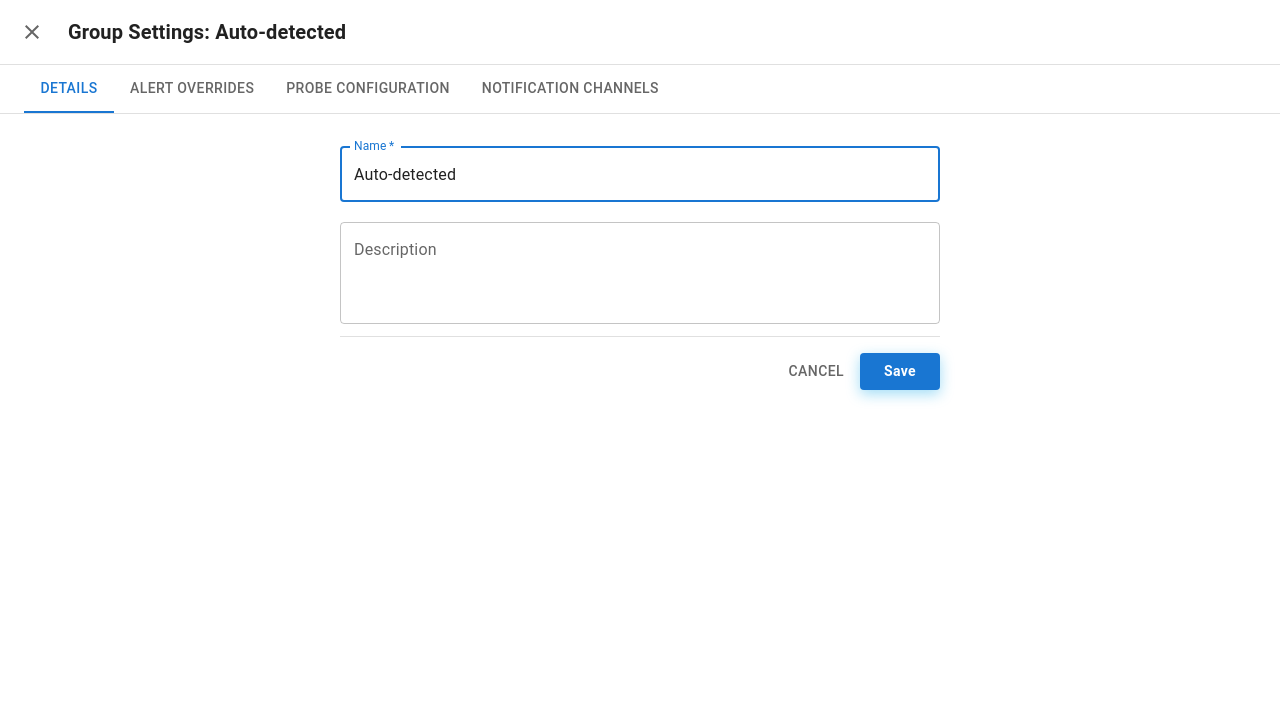
it: GroupDialog › override panels for non-numeric groups › shows info alert instead of AlertOverridesPanel for auto-detected group
This screenshot has width=1280, height=720.
Step 1. Click the tab "Alert overrides" → (192, 89), box [114,65,270,113]
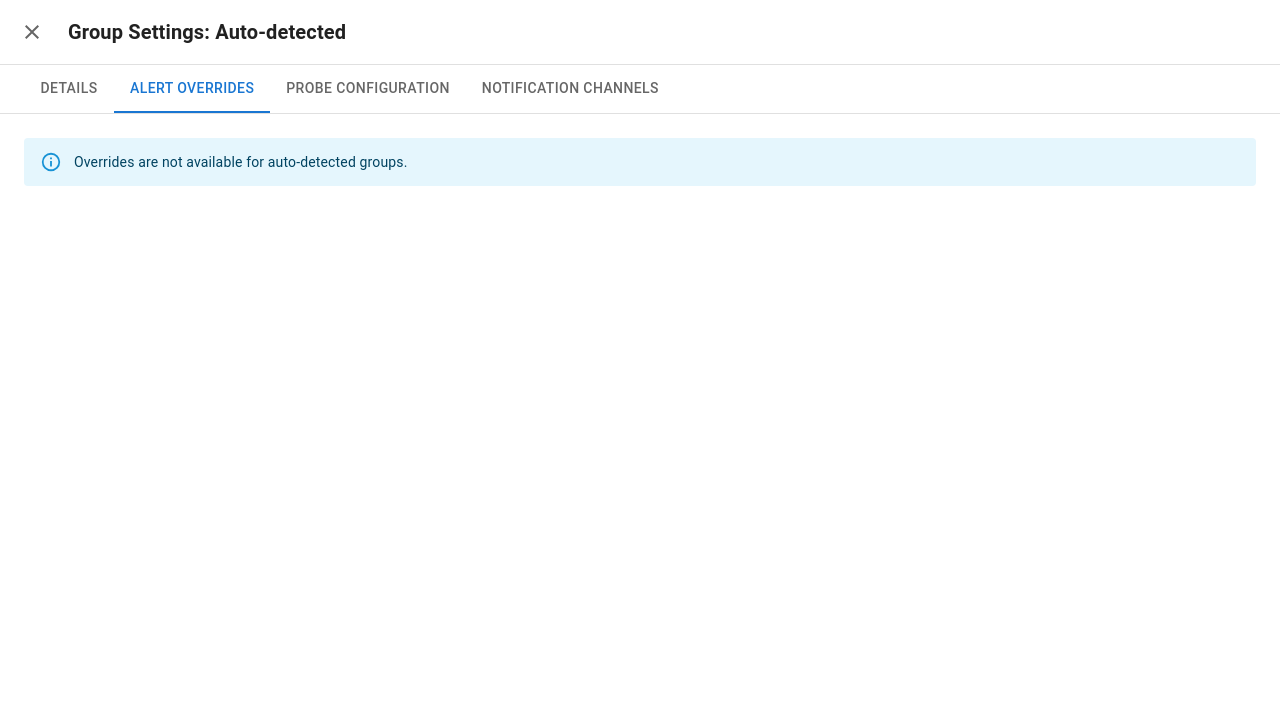
Expected: the text "Overrides are not available for auto-detected groups." is shown, [74,154,408,170]
